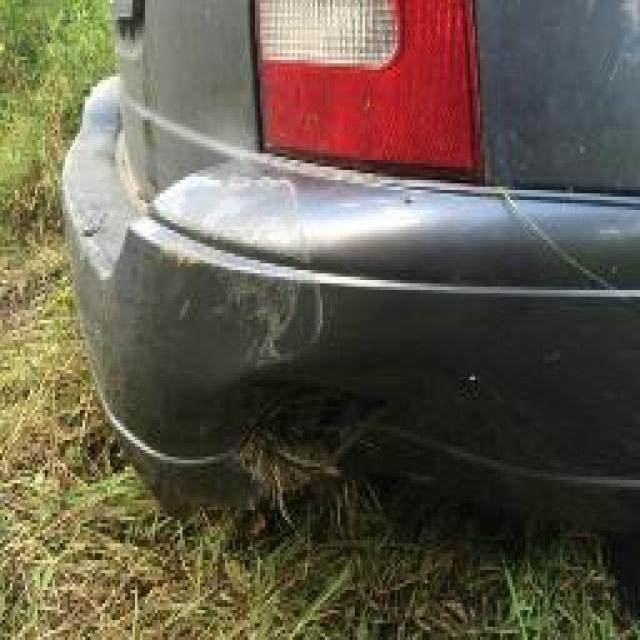Bumper: (150, 167, 355, 397)
